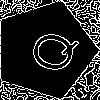Q: (19, 25, 80, 77)
